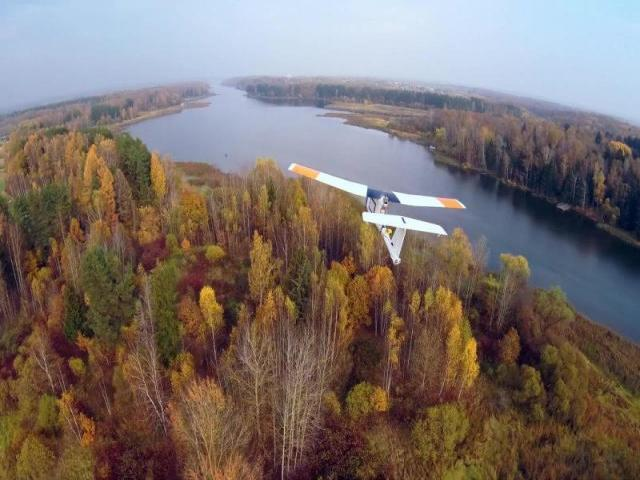hedef: (281, 155, 476, 278)
